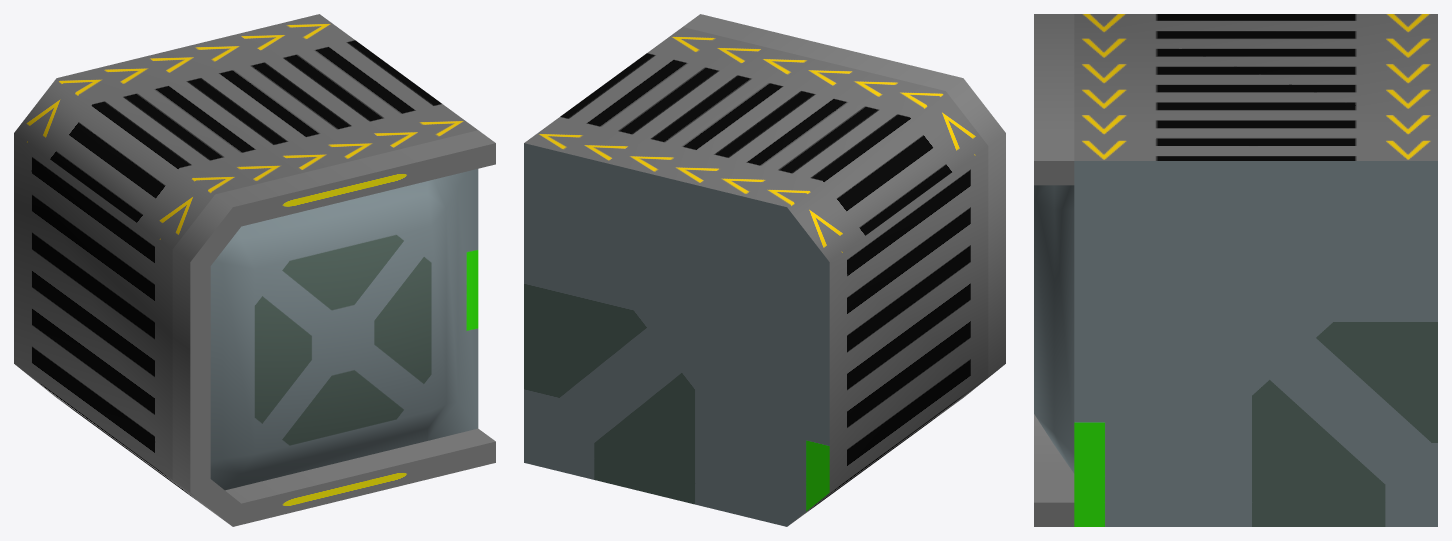
Rendered from UModelRigth.fbx.
3 views of the same model, side by side, from view 1: azimuth 30°, elevation 25°; view 2: azimuth 150°, elevation 25°; view 3: azimuth 270°, elevation 25° (orthographic). The views are drawn at different scales.
Visible parts, largest first — view 1: geo1; view 2: geo1; view 3: geo1.
Boxes of the visible parts, box(x1,y1,x2,y2) form: geo1: box(14, 14, 495, 526); geo1: box(524, 14, 1005, 526); geo1: box(1034, 14, 1437, 526).
Bounding box in the file's own units: 3 × 3 × 3.
